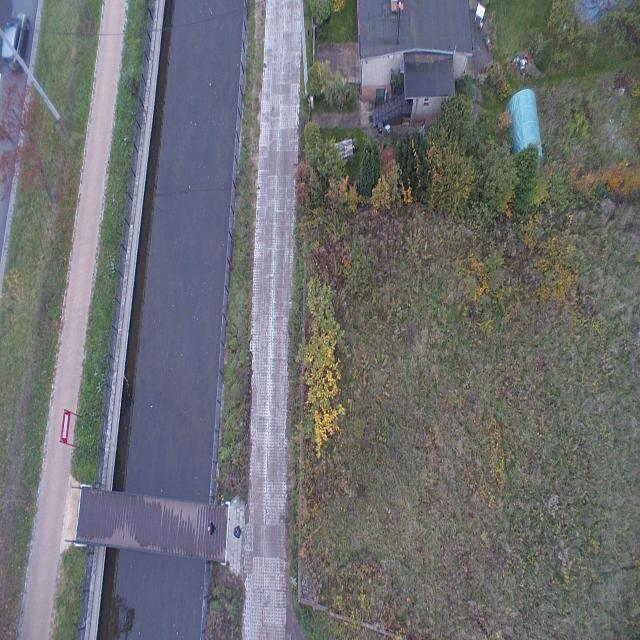p3rson: (208, 522, 218, 535), (234, 525, 241, 539)
